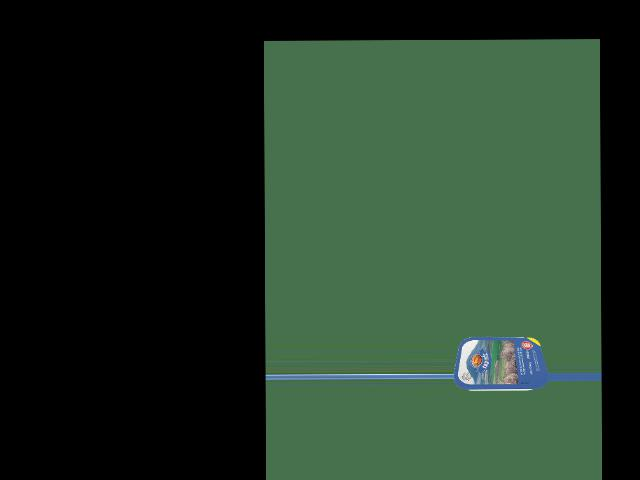cheese: (460, 334, 538, 397)
